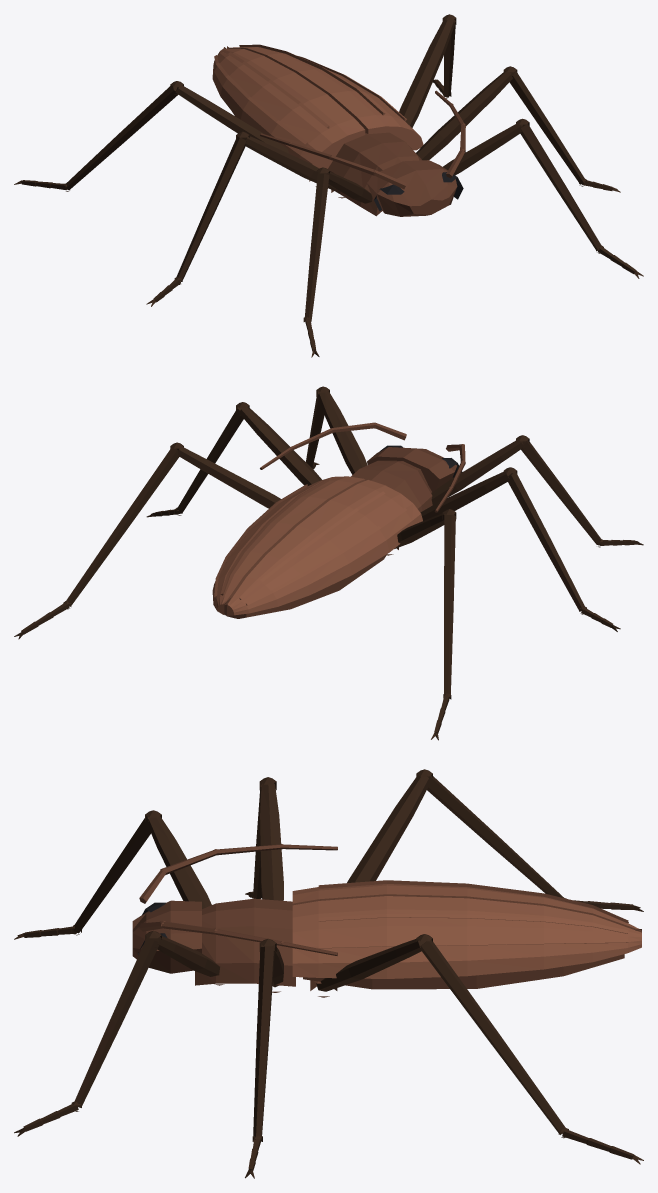
File: sprinter.glb
3 views of the same model, one above another, from view 1: azimuth 30°, elevation 25°; view 2: azimuth 150°, elevation 25°; view 3: azimuth 270°, elevation 25° (orthographic). The views are drawn at different scales.
Parts seen in each view (by area): view 1: BeetlePlate_01, BeetlePlate_00, HeadBase001, ThoraxCore, Femur004, Femur002, Tibia003, Tibia001, Tibia005, Tibia000, Tibia002, Femur005 (+4 smaller); view 2: BeetlePlate_01, BeetlePlate_00, ThoraxCore, Tibia004, Tibia005, HeadBase001, Tibia003, Femur002, Femur004, Femur000, Femur001, Tibia001 (+5 smaller); view 3: BeetlePlate_00, ThoraxCore, BeetlePlate_01, Tibia004, BeetleBodyInner, HeadBase001, Femur005, Tibia002, Tibia000, Femur003, Tibia005, Femur001 (+3 smaller).
Part boxes in pixels (box(x1,y1,x2,y2)): BeetlePlate_01: box(212, 47, 365, 168); BeetlePlate_00: box(227, 44, 423, 150); HeadBase001: box(367, 160, 457, 216); ThoraxCore: box(328, 132, 421, 216); Femur004: box(399, 19, 454, 127); Femur002: box(416, 71, 512, 160); Tibia003: box(176, 136, 246, 281); Tibia001: box(304, 173, 329, 320); Tibia005: box(65, 85, 177, 189); Tibia000: box(520, 123, 601, 250); Tibia002: box(509, 71, 584, 184); Femur005: box(175, 85, 288, 153); BeetlePlate_01: box(227, 480, 422, 615); BeetlePlate_00: box(212, 476, 365, 614); ThoraxCore: box(351, 460, 432, 512); Tibia004: box(66, 447, 179, 606); Tibia005: box(444, 514, 455, 697); HeadBase001: box(367, 447, 456, 491); Tibia003: box(507, 472, 585, 611); Femur002: box(239, 407, 321, 485); Femur004: box(176, 447, 280, 508); Femur000: box(318, 391, 367, 474); Femur001: box(431, 440, 524, 504); Tibia001: box(521, 440, 602, 545); BeetlePlate_00: box(292, 896, 641, 978); ThoraxCore: box(195, 898, 295, 986); BeetlePlate_01: box(292, 880, 641, 930); Tibia004: box(420, 939, 565, 1134); BeetleBodyInner: box(303, 954, 624, 989); HeadBase001: box(132, 900, 201, 973); Femur005: box(347, 775, 430, 882); Tibia002: box(253, 946, 274, 1140); Tibia000: box(74, 937, 159, 1107); Femur003: box(260, 784, 283, 900); Tibia005: box(427, 775, 563, 897); Femur001: box(148, 816, 211, 908).
Bounding box in the file's own units: 3.88 × 1.17 × 3.62.
